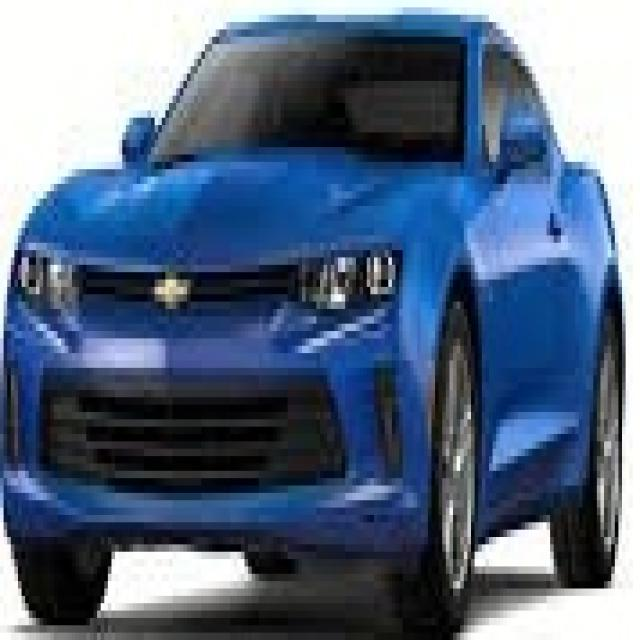blue: (0, 7, 626, 640)
